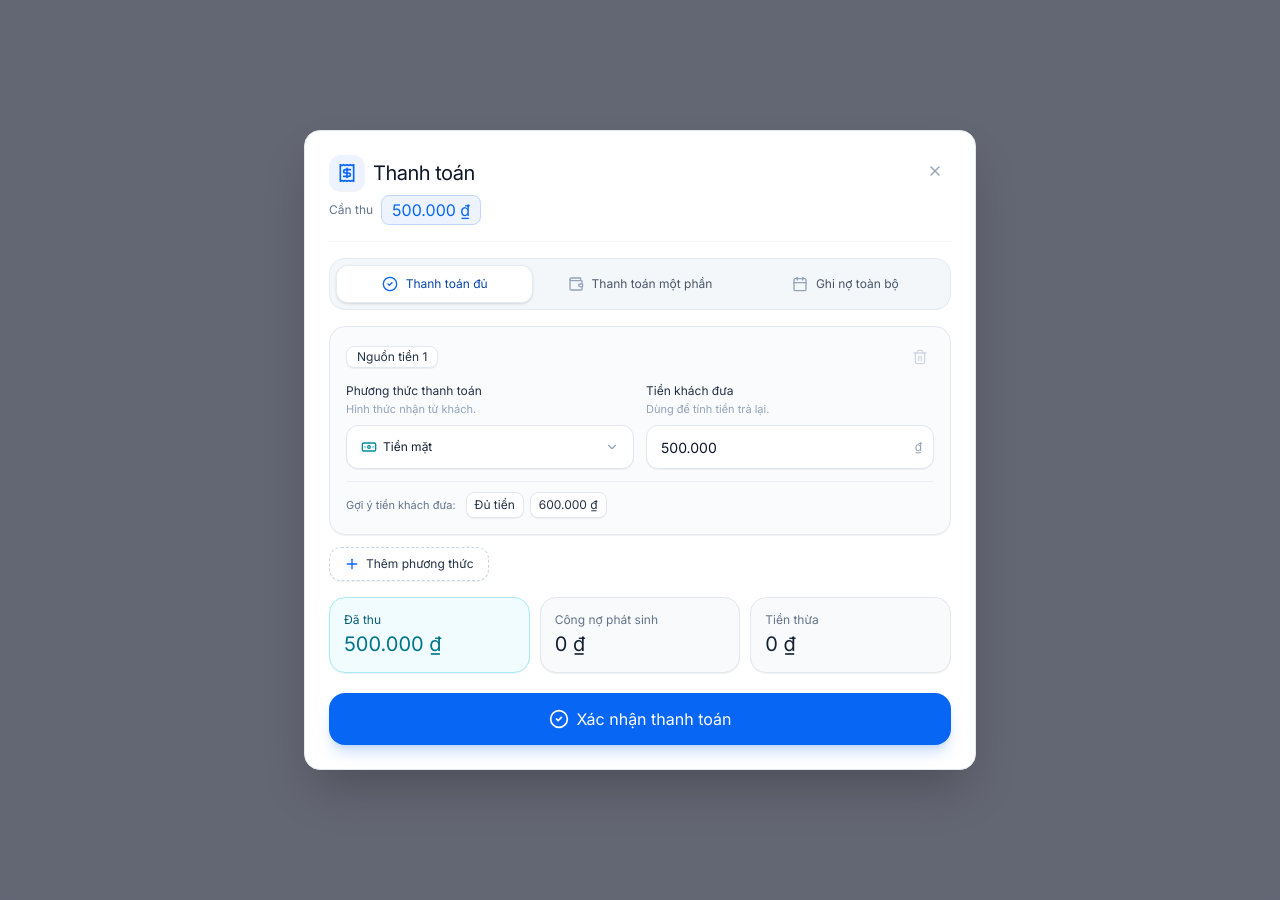
Test case: PaymentDialog › exposes collection amount when multiple payment sources are added
Click the button "Thêm phương thức" at (409, 564), box [329,547,488,581]
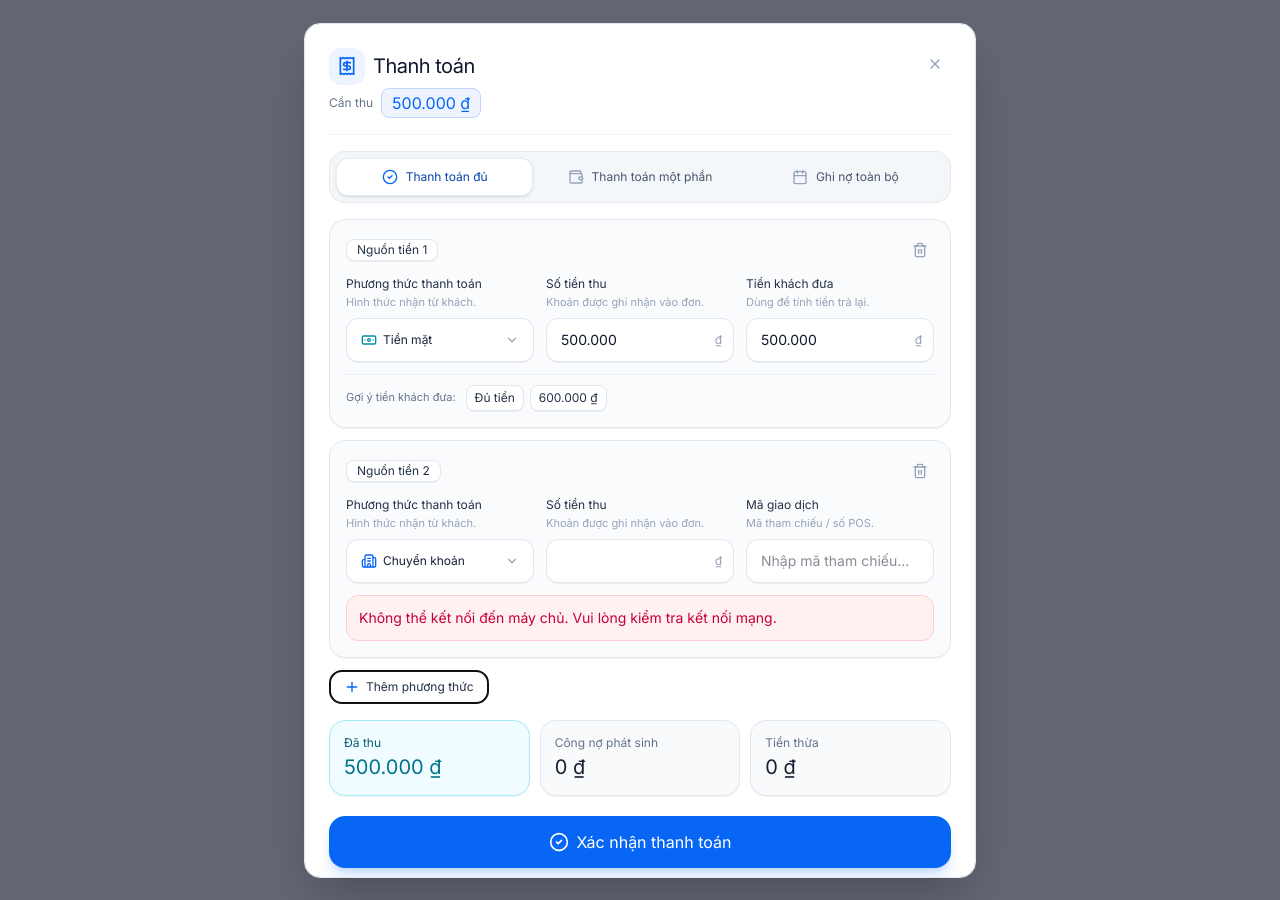
Check: the number of fields labelled "Số tiền thu" is 2, box [546,318,734,362]; [546,538,734,582]
